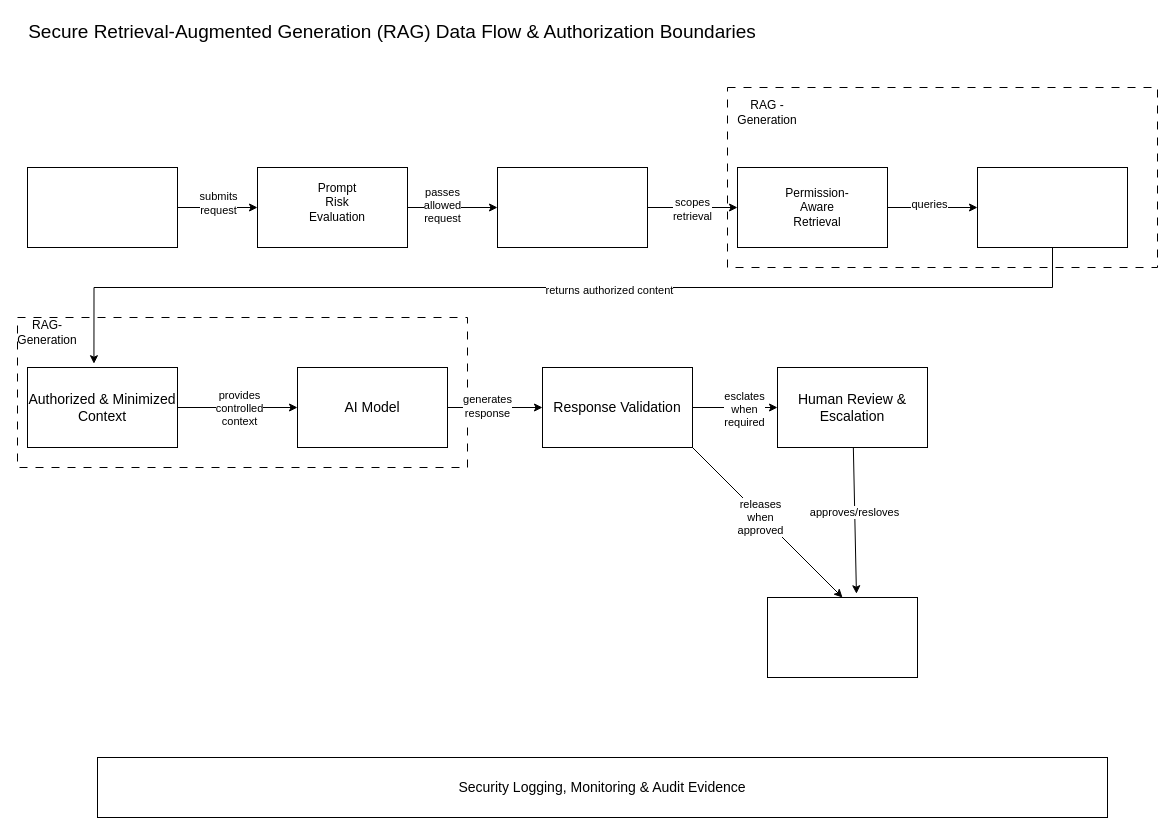
This 1175x835 diagram has some shape labels left out. Here are the shapes that lost their labels. From the top down, the centre of each, then its label:
At point (102, 207): "User & Enterprise Identity".
At point (572, 207): "Authorization Context".
At point (1052, 207): "Approved Knowledge Sources".
At point (842, 637): "Autorized Response".
